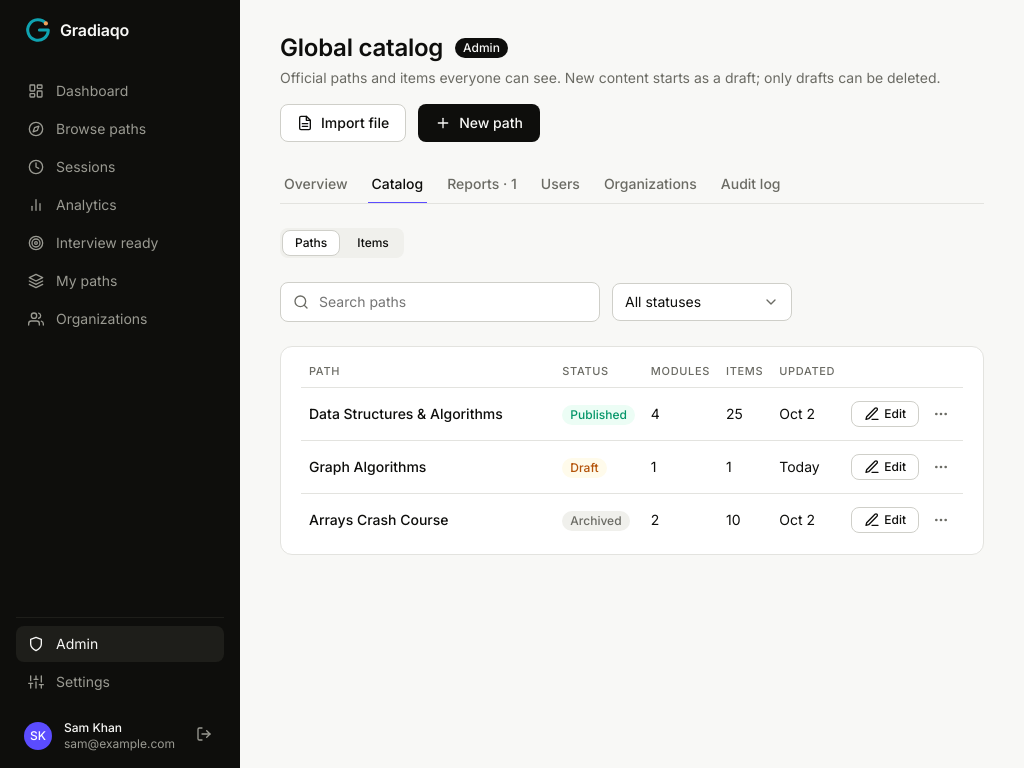
Test: The global catalog › closes the new path dialog without creating one, and waits while creating
The image size is (1024, 768).
Click the button "New path". click: (479, 123)
box: x1=418 y1=104 x2=540 y2=142
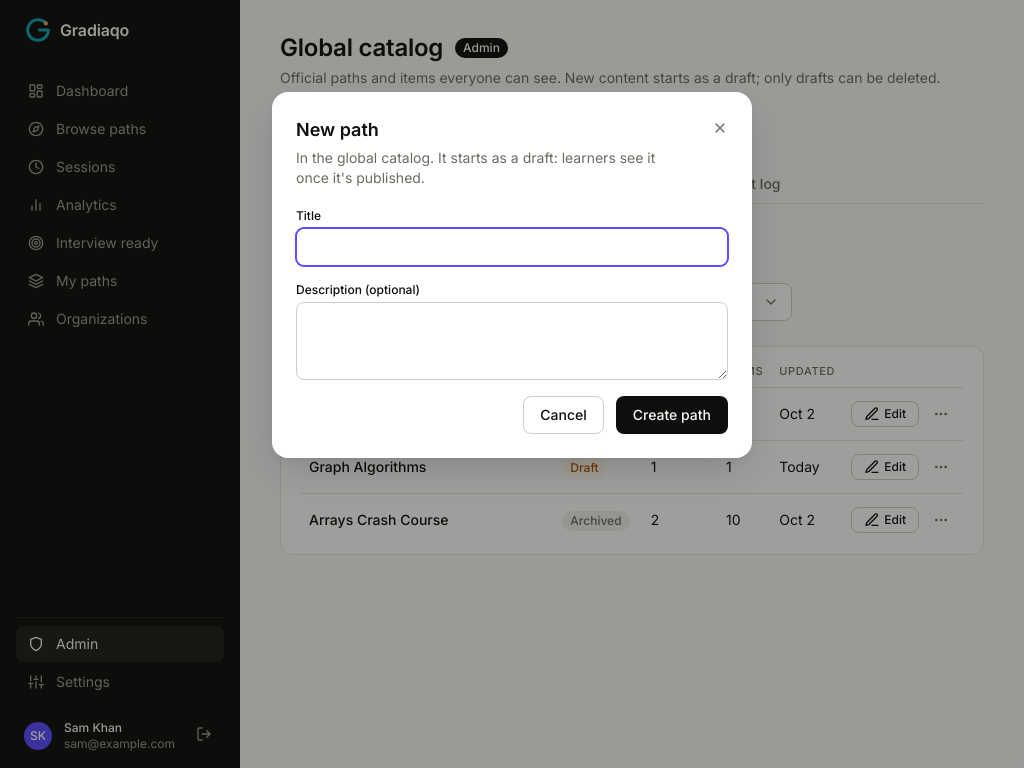
Type "Trees" into the field labelled "Title". click: (512, 247)
box: x1=296 y1=228 x2=728 y2=266
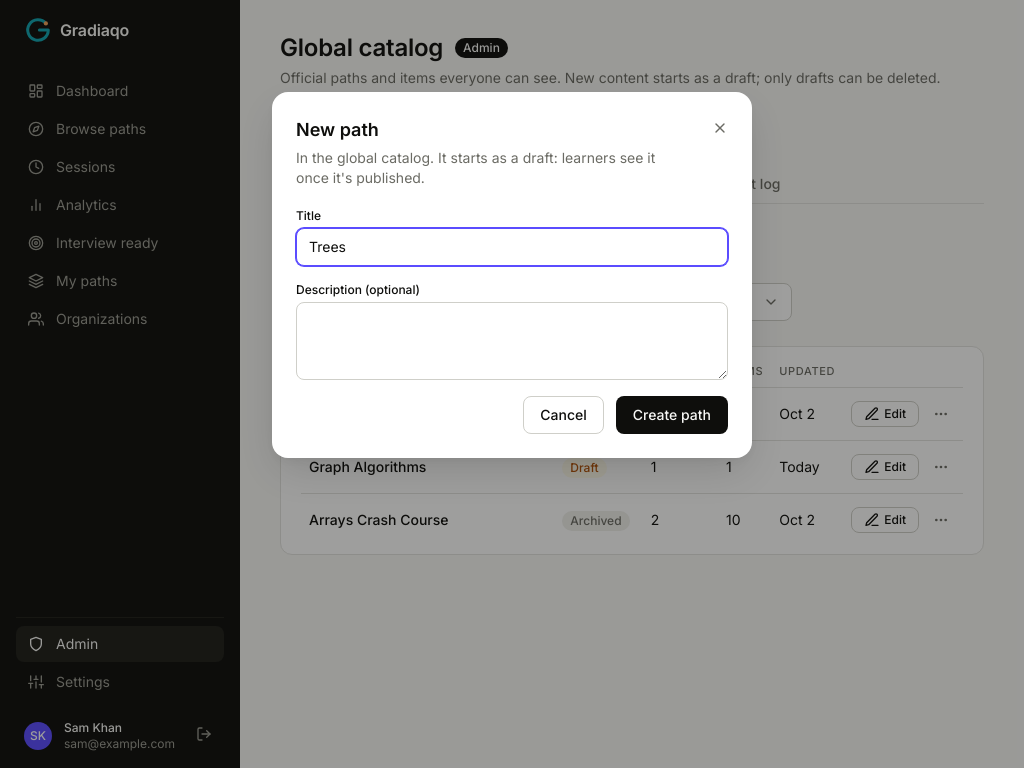
Click the button "Create path". click: (672, 415)
box: x1=616 y1=396 x2=728 y2=434
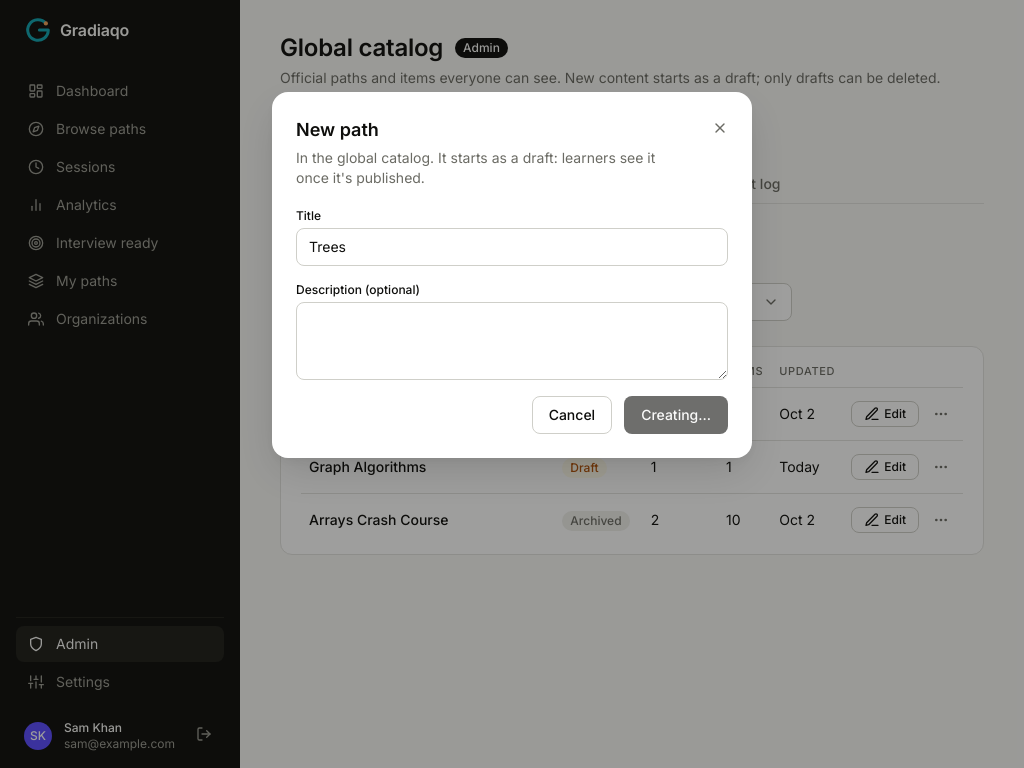
Result: the button "Creating…" is disabled at x1=624 y1=396 x2=728 y2=434
Click the button "Cancel". click: (572, 415)
box: x1=532 y1=396 x2=612 y2=434
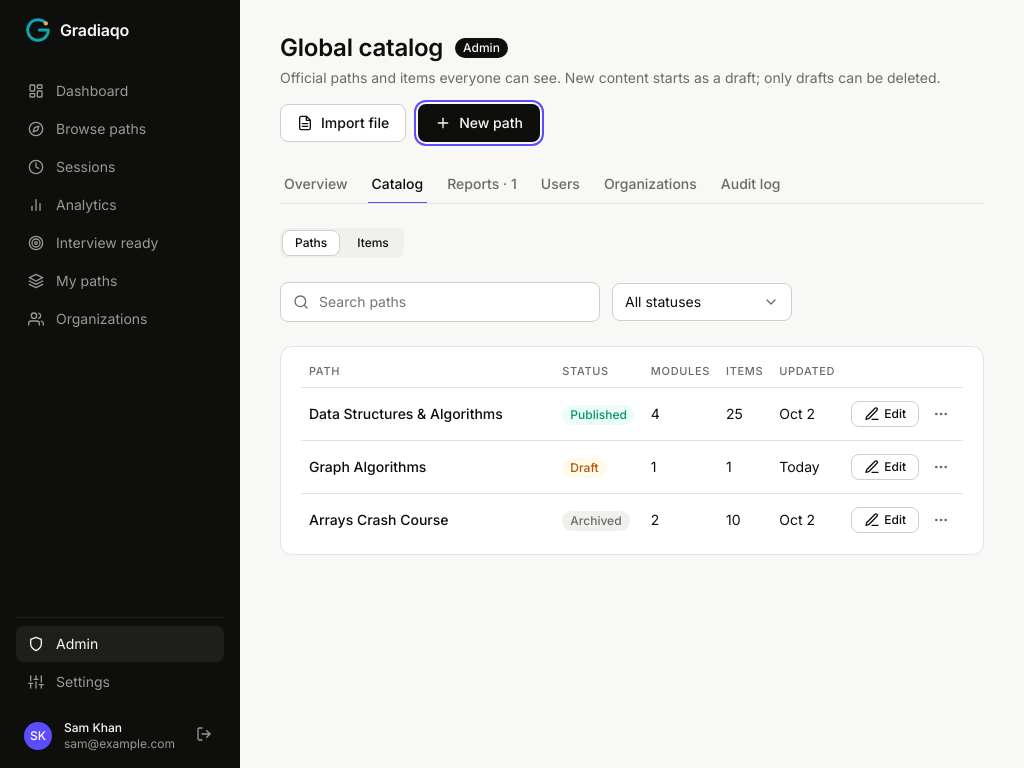
Result: the dialog is gone
